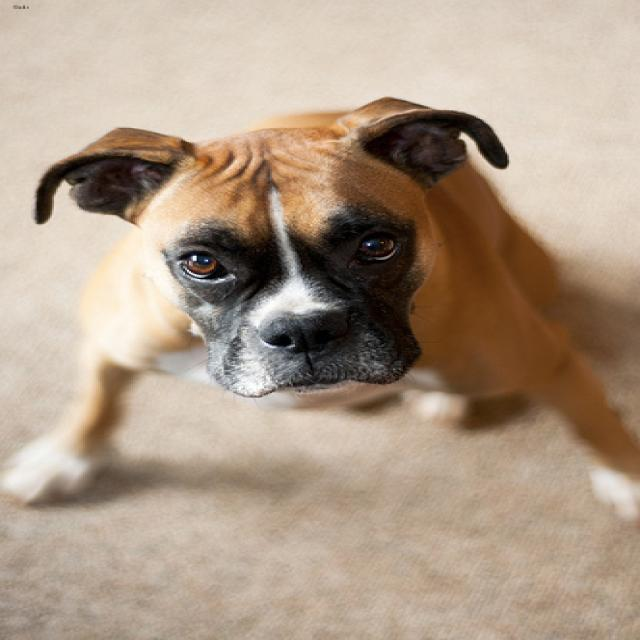dog-boxer: (2, 93, 636, 535)
